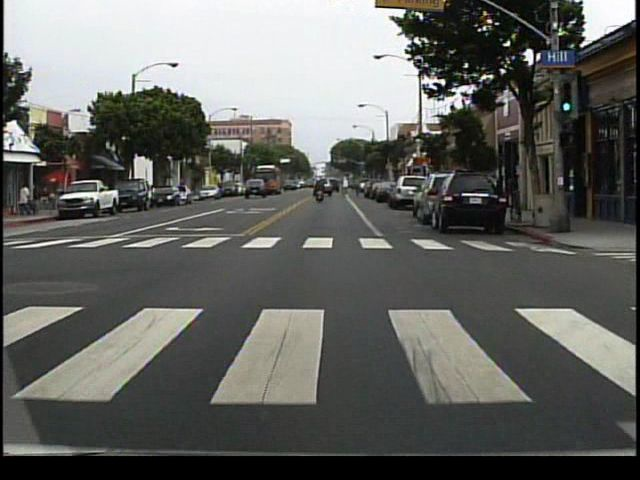person: (19, 182, 35, 220), (314, 181, 327, 208)
